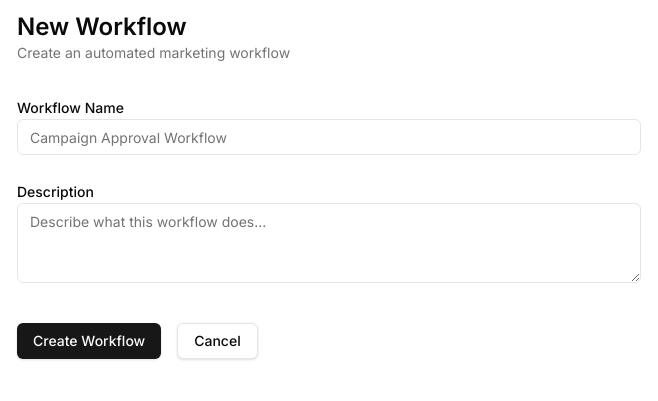
NewWorkflowPage › shows validation error when name is empty on submit
The width and height of the screenshot is (658, 401).
Step 1. Click the button "Create Workflow" → [89, 341], box [17,323,161,359]
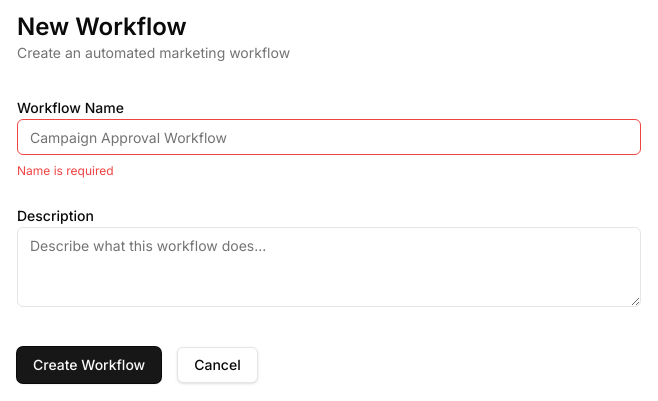
expect the text "Name is required" is shown: met, box [17,163,114,178]
